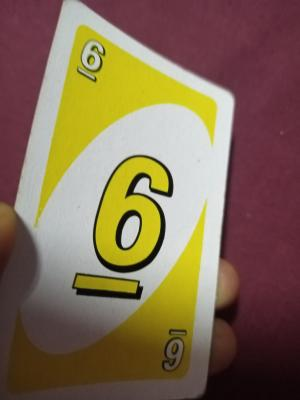num_6: (63, 144, 183, 314), (93, 329, 201, 379)
yellow: (67, 32, 117, 133)
